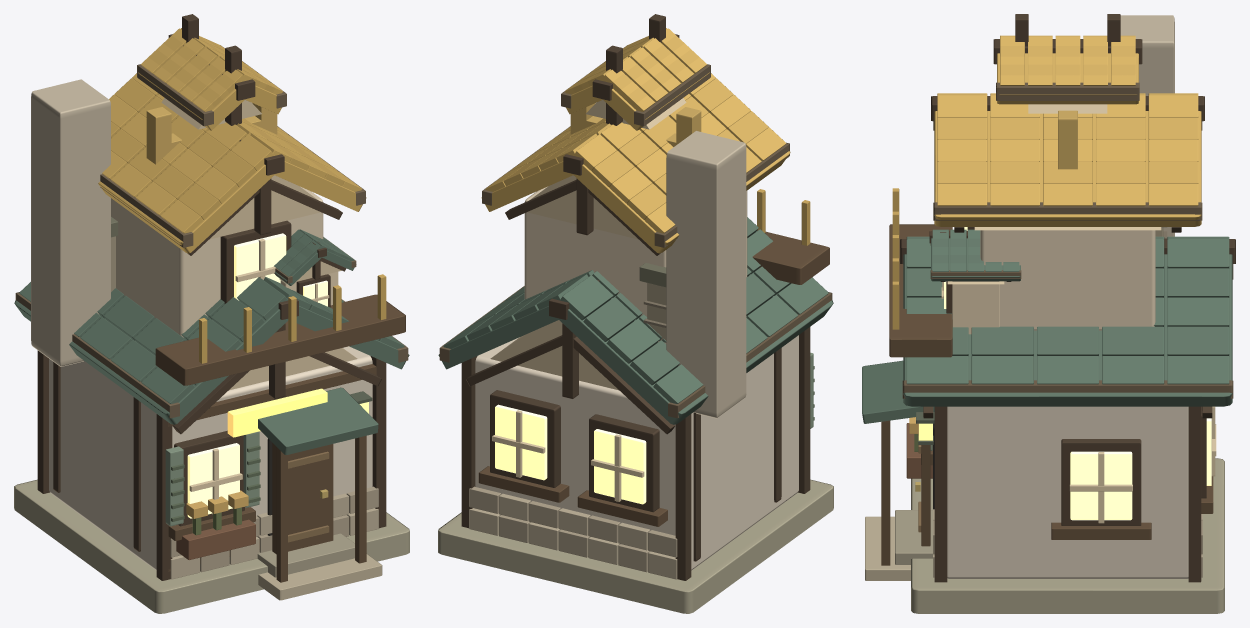
Rendered from workshop-4-1.glb.
3 views of the same model, side by side, from view 1: azimuth 30°, elevation 25°; view 2: azimuth 150°, elevation 25°; view 3: azimuth 270°, elevation 25° (orthographic). The views are drawn at different scales.
Parts seen in each view (by area): view 1: workshop-1-4, door-hinge; view 2: workshop-1-4; view 3: workshop-1-4, door-hinge.
Part boxes in pixels (left/top/right/bottom): workshop-1-4: left=14, top=14, right=409, bottom=613; door-hinge: left=272, top=443, right=333, bottom=554; workshop-1-4: left=438, top=14, right=833, bottom=613; workshop-1-4: left=862, top=14, right=1235, bottom=613; door-hinge: left=915, top=424, right=930, bottom=546.
Bounding box in the file's own units: 1.91 × 3.51 × 2.24.
